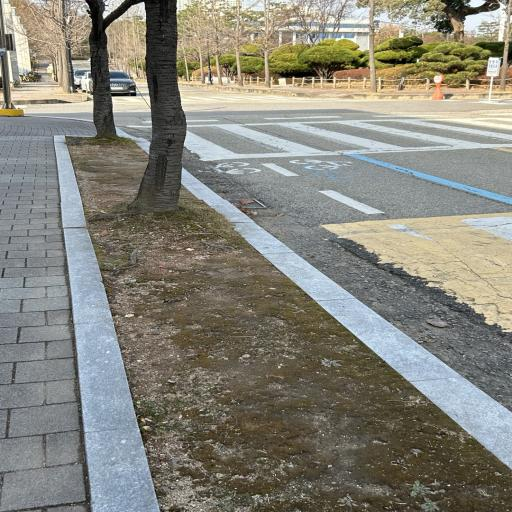drain: (228, 200, 264, 207)
